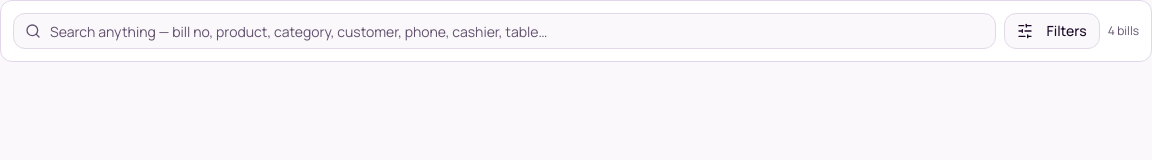
Test: the search panel › shows how many bills match as the user types, and clears
The width and height of the screenshot is (1152, 160).
Later steps or results of the test are not shown.
Expected: the text with test id "report-search-count" reads "4 bills", [1108, 23, 1139, 39]
Step 1. Replace the text in the field named "Search reports" with "chicken" → (504, 31), box [13, 13, 996, 49]
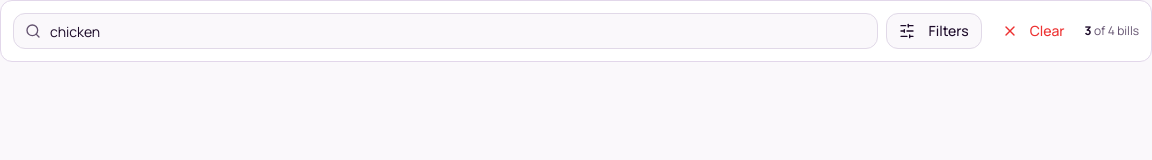
Expected: the element with test id "report-search-count" reads "3 of 4 bills", [1085, 23, 1139, 39]
